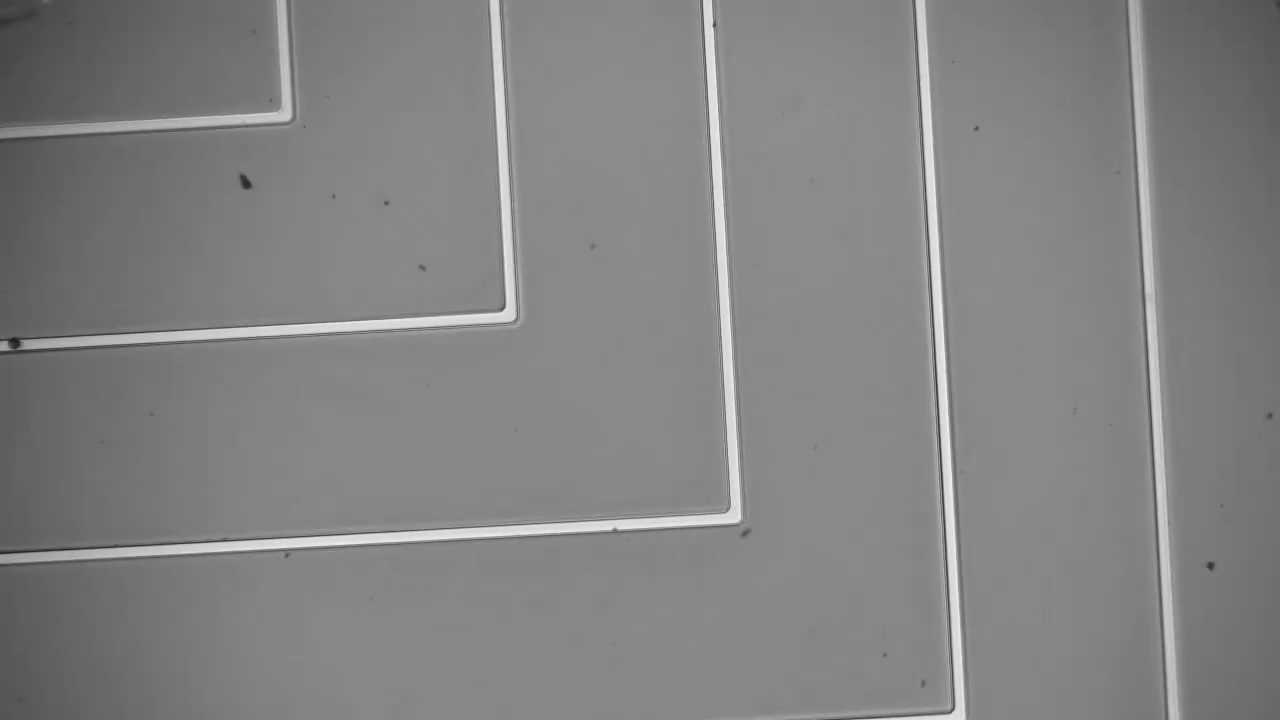stains_enbedded: (1, 332, 32, 356)
